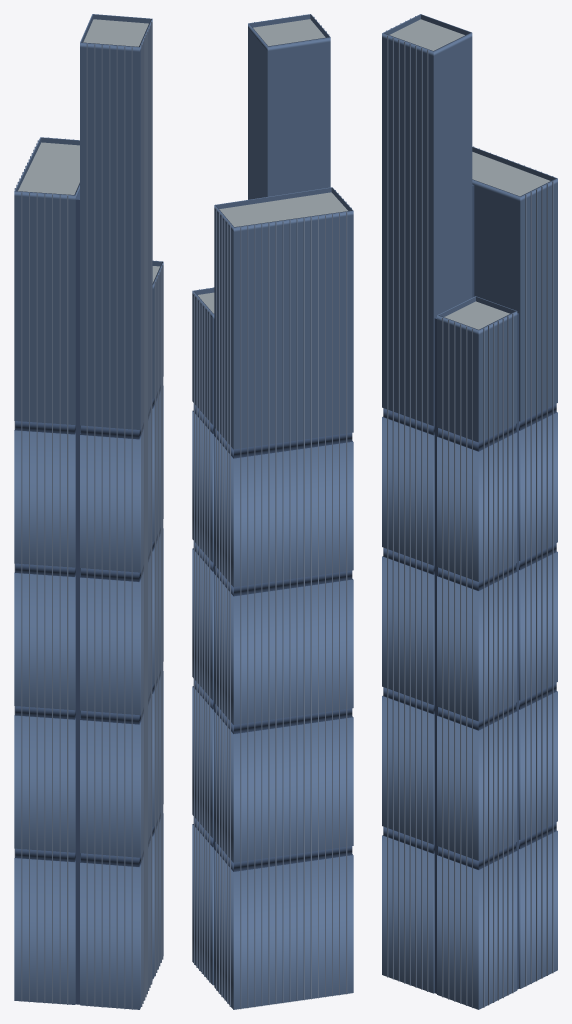
The model's file is nanjing-financial-city-c1.detail.glb.
3 views of the same model, side by side, from view 1: azimuth 30°, elevation 25°; view 2: azimuth 150°, elevation 25°; view 3: azimuth 270°, elevation 25° (orthographic). The views are drawn at different scales.
Visible parts, largest first — view 1: Nanjing Financial City C1; view 2: Nanjing Financial City C1; view 3: Nanjing Financial City C1.
Boxes of the visible parts, x1,y1,x2,y2 form: Nanjing Financial City C1: [14, 14, 163, 1009]; Nanjing Financial City C1: [192, 14, 353, 1009]; Nanjing Financial City C1: [382, 14, 557, 1009].
Bounding box in the file's own units: 71.93 × 419 × 70.78.
